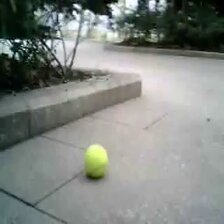tennis: (83, 144, 107, 176)
